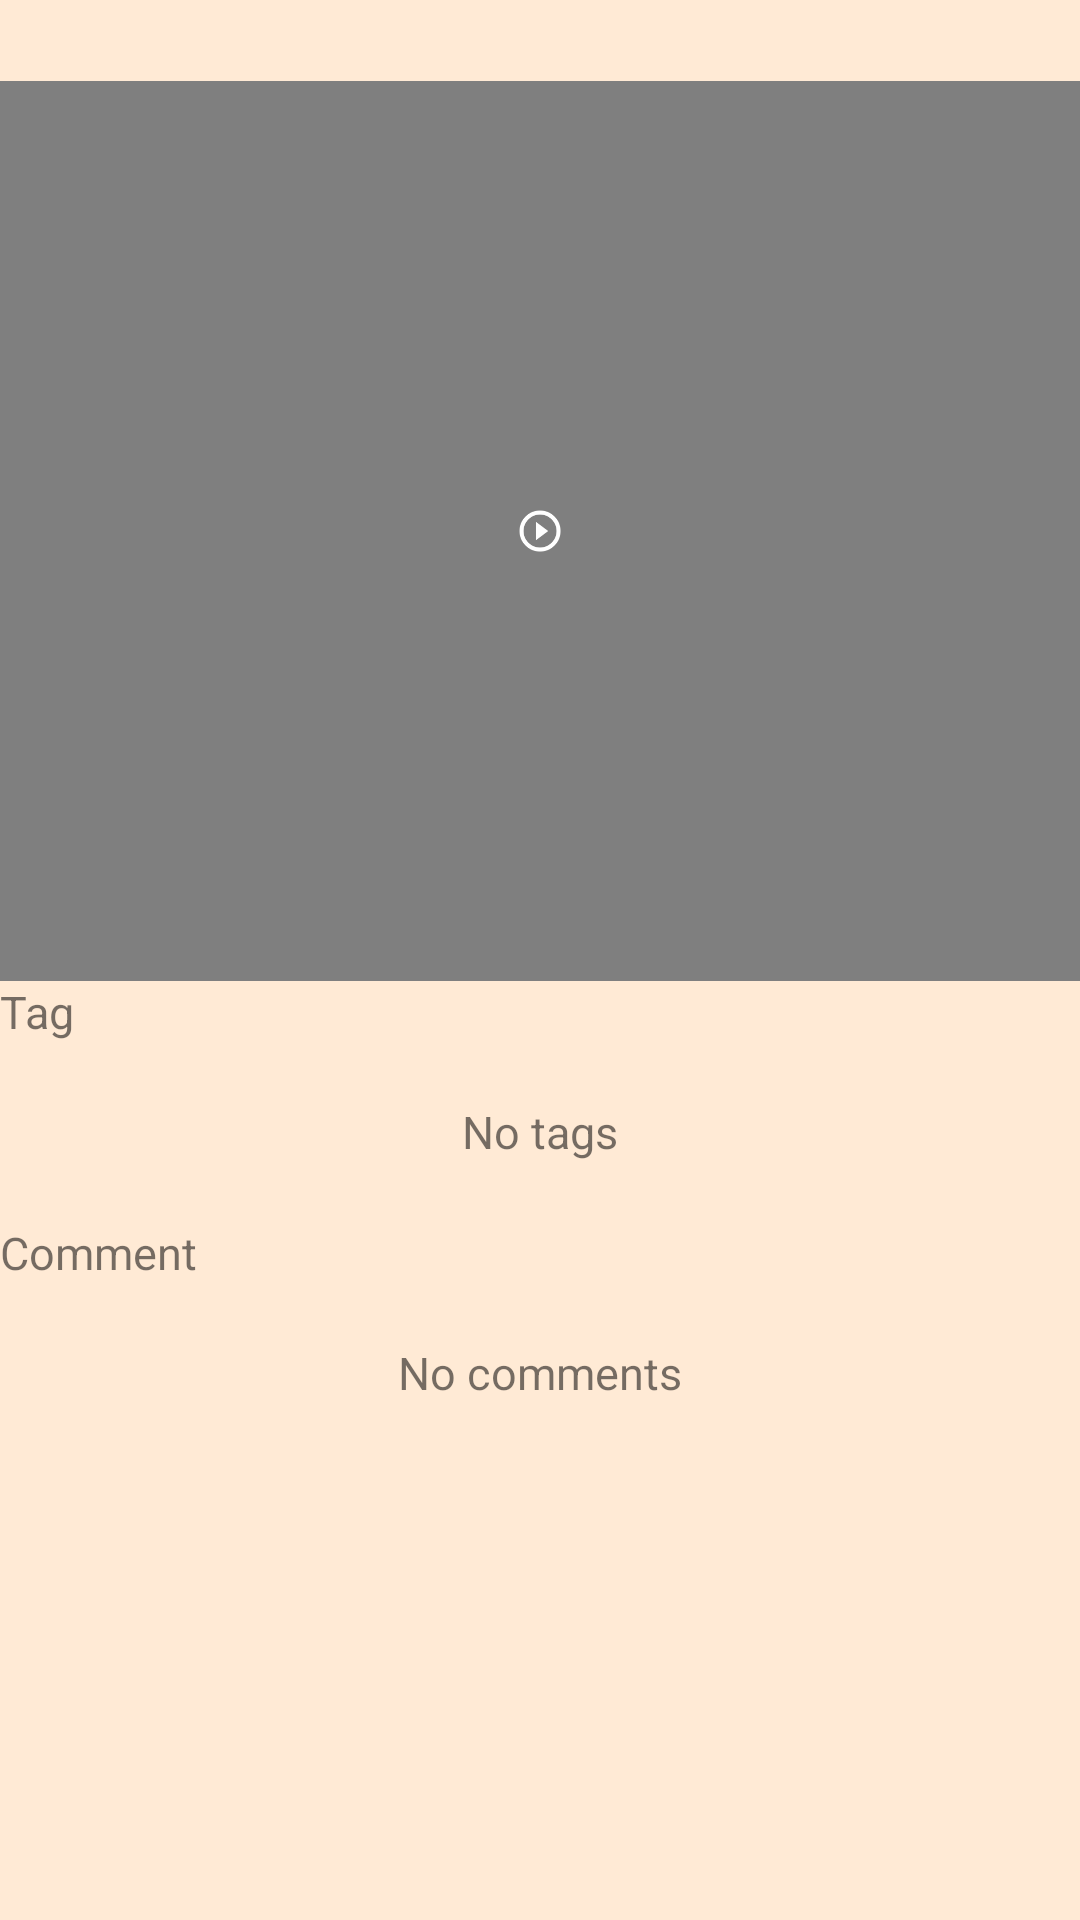

Where to tap for icons on this 1080 × 1920 app screen, as [x,y]:
play circle: [540,531]
